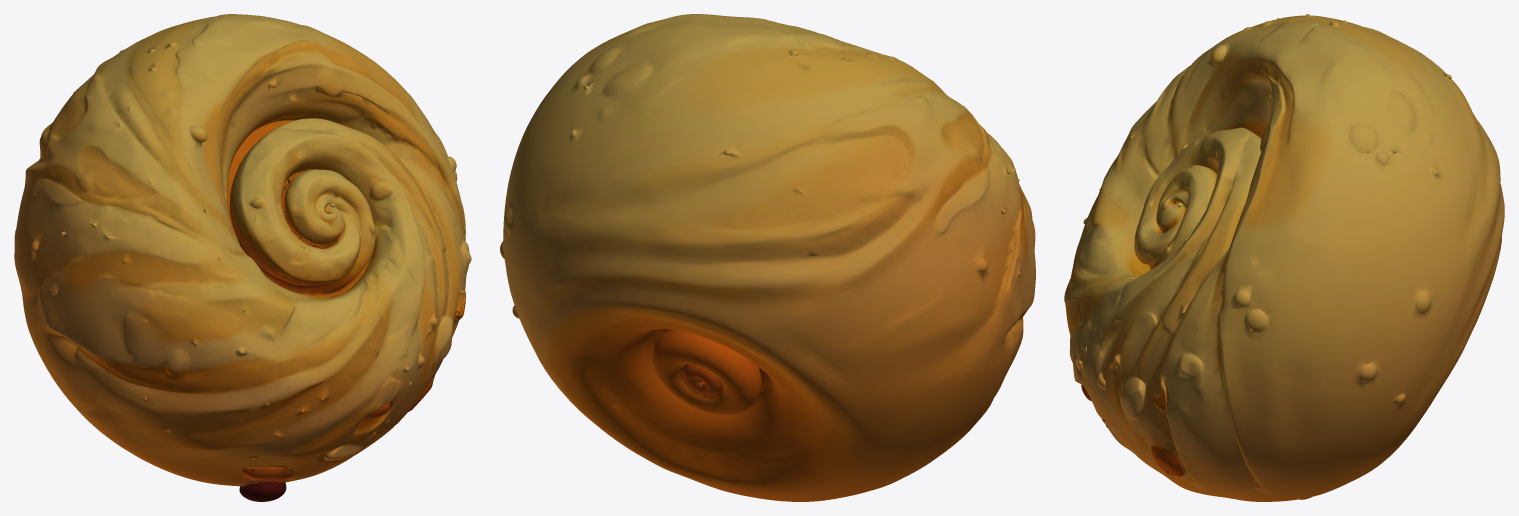
Rendered from light_light.glb.
3 renders of one model, left to right at view 1: azimuth 30°, elevation 25°; view 2: azimuth 150°, elevation 25°; view 3: azimuth 270°, elevation 25°, orthographic. The views are drawn at different scales.
Parts seen in each view (by area): view 1: tripo_node_c0c8ef32-097f-4f74-a786-f8158ba3b08c; view 2: tripo_node_c0c8ef32-097f-4f74-a786-f8158ba3b08c; view 3: tripo_node_c0c8ef32-097f-4f74-a786-f8158ba3b08c.
Part boxes in pixels (box(x1,y1,x2,y2)): tripo_node_c0c8ef32-097f-4f74-a786-f8158ba3b08c: box(14, 14, 471, 501); tripo_node_c0c8ef32-097f-4f74-a786-f8158ba3b08c: box(500, 14, 1035, 501); tripo_node_c0c8ef32-097f-4f74-a786-f8158ba3b08c: box(1064, 14, 1504, 501).
Size of the model in its own units: 0.9798 by 0.9646 by 0.8634.
Materials: 1 (1 with a texture image).
